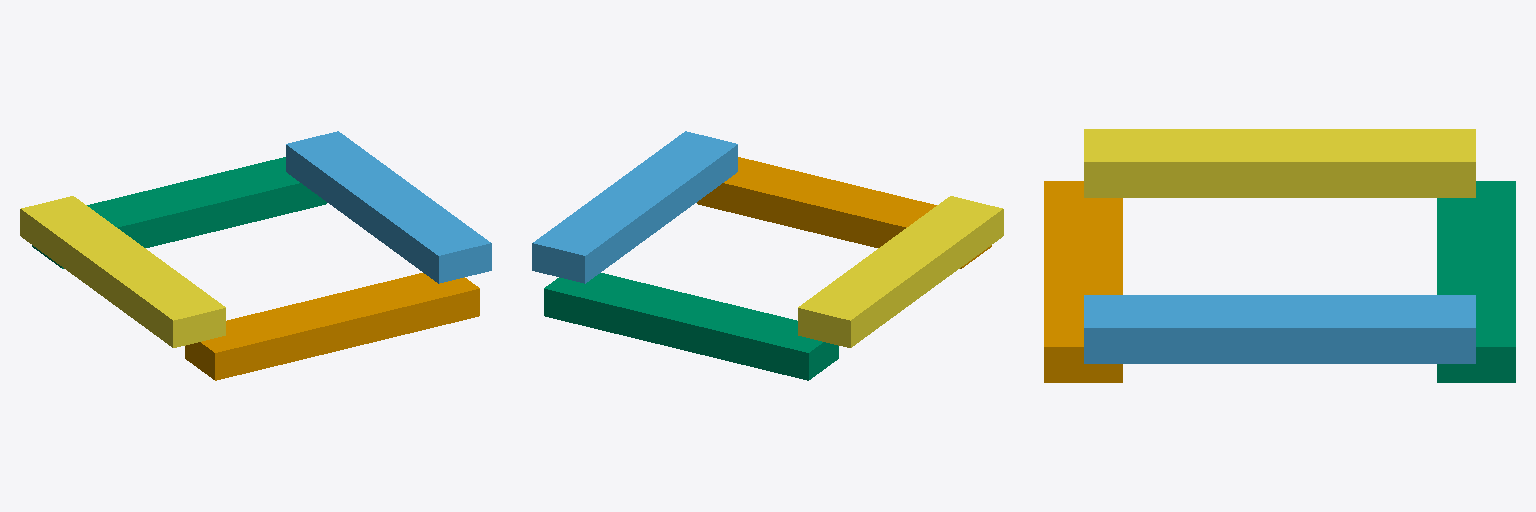
robot.urdf — plane:
<?xml version="0.0" ?>
<robot name="plane">
    <link name="Base_link">
        <visual>
            <geometry>
                <box size="2 0.4 0.2"/>
            </geometry>
        </visual>
        <collision>
            <geometry>
                <box size="2 0.4 0.2"/>
            </geometry>
        </collision>
    </link>
    <link name="1">
        <visual>
            <origin xyz="1 0 0"/>
            <geometry>
                <box size="2 0.4 0.2"/>
            </geometry>
        </visual>
        <collision>
            <origin xyz="1 0 0"/>
            <geometry>
                <box size="2 0.4 0.2"/>
            </geometry>
        </collision>
    </link>
    <link name="2">
        <visual>
            <origin xyz="1 0 0"/>
            <geometry>
                <box size="2 0.4 0.2"/>
            </geometry>
        </visual>
        <collision>
            <origin xyz="1 0 0"/>
            <geometry>
                <box size="2 0.4 0.2"/>
            </geometry>
        </collision>
    </link>
    <link name="3">
        <visual>
            <origin xyz="1 0 0"/>
            <geometry>
                <box size="2 0.4 0.2"/>
            </geometry>
        </visual>
        <collision>
            <origin xyz="1 0 0"/>
            <geometry>
                <box size="2 0.4 0.2"/>
            </geometry>
        </collision>
    </link>

    <joint name="1" type="continuous">
        <parent link="Base_link"/>
        <child link="1"/>
        <axis xyz="0 0 1"/>
        <origin xyz="1 0 0.2" rpy="0 0 1.5707963267948966"/>
    </joint>
    <joint name="2" type="continuous">
        <parent link="1"/>
        <child link="2"/>
        <axis xyz="0 0 1"/>
        <origin xyz="2 0 -0.2" rpy="0 0 1.5707963267948966"/>
    </joint>
    <joint name="3" type="continuous">
        <parent link="2"/>
        <child link="3"/>
        <axis xyz="0 0 1"/>
        <origin xyz="2 0 0.2" rpy="0 0 1.5707963267948966"/>
    </joint>
</robot>

--- What the picture shows (computed from the rendered views, not written in the file) ---
The picture shows the robot from 3 angles, left to right: view 1: azimuth 30°, elevation 25°; view 2: azimuth 150°, elevation 25°; view 3: azimuth 270°, elevation 25°; orthographic projection.
Robot: plane — 4 links, 3 joints (3 continuous); root link Base_link; default pose: every joint at zero.
Visible links, largest first — view 1: Base_link, 1, 3, 2; view 2: 2, 1, 3, Base_link; view 3: 1, 3, Base_link, 2.
Boxes of the visible links, x1,y1,x2,y2 form: Base_link: (185, 273, 479, 380); 1: (286, 131, 491, 283); 3: (20, 196, 225, 347); 2: (32, 157, 326, 268); 2: (544, 273, 838, 380); 1: (532, 131, 737, 283); 3: (798, 196, 1003, 347); Base_link: (697, 157, 991, 268); 1: (1084, 295, 1475, 363); 3: (1084, 129, 1475, 197); Base_link: (1044, 181, 1122, 382); 2: (1437, 181, 1515, 382).
Size in the robot's own frame: 2.4 by 2.4 by 0.4 metres.
Geometry: primitives only (box / cylinder / sphere), no mesh files.